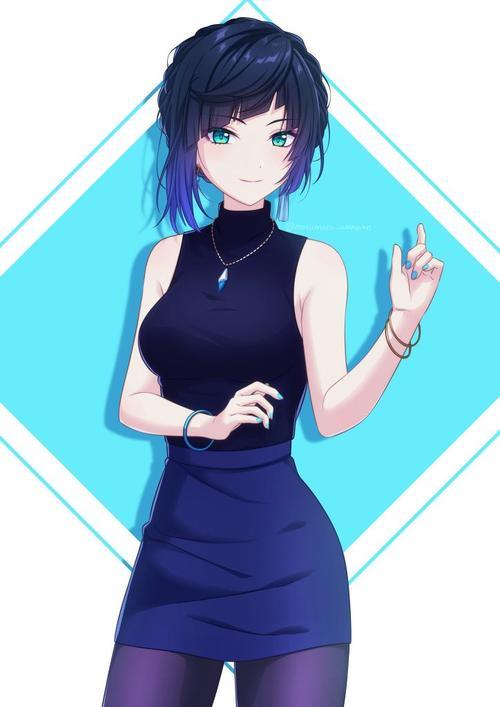夜兰: (96, 21, 445, 707)
